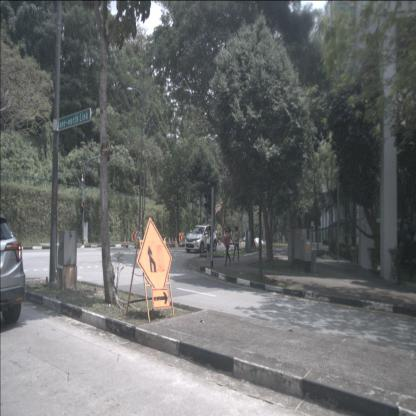cone: (174, 237, 178, 244), (127, 238, 130, 247), (124, 238, 127, 247), (171, 237, 174, 244), (168, 238, 171, 244)
